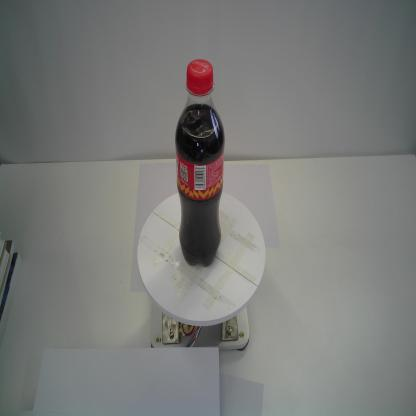Drink: (174, 58, 225, 270)
